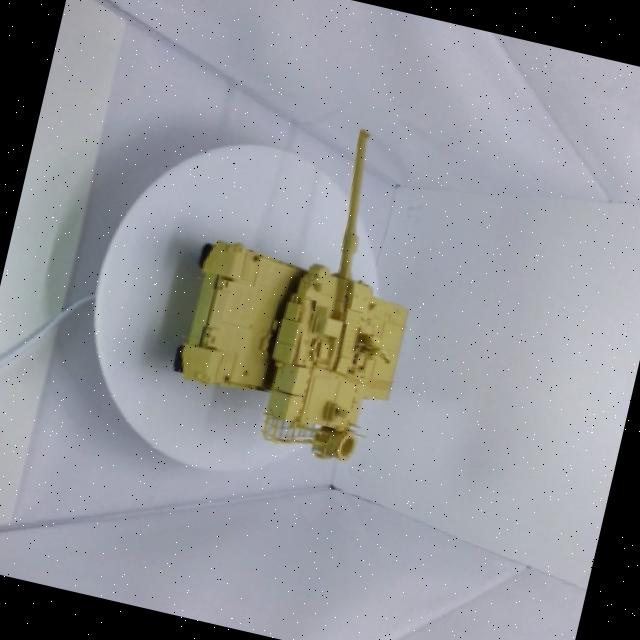korea tank: (118, 79, 491, 514)
